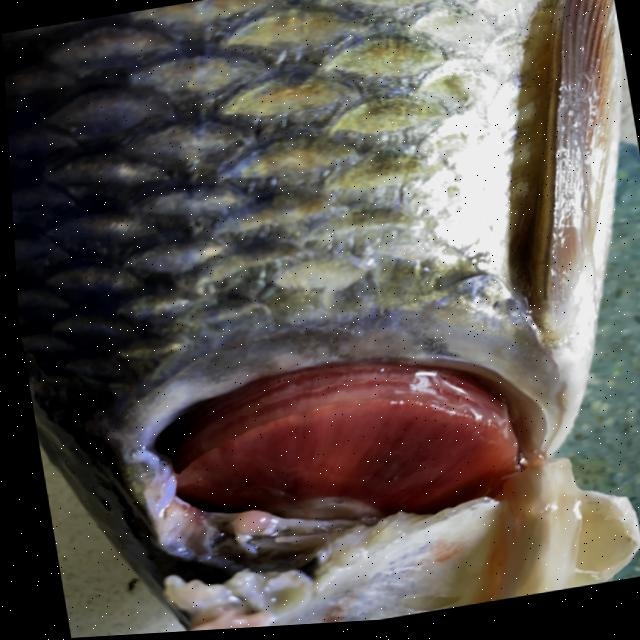Fresh: (87, 310, 592, 600)
